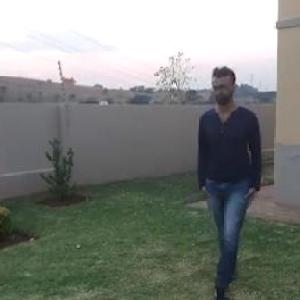follow: (176, 56, 264, 299)
